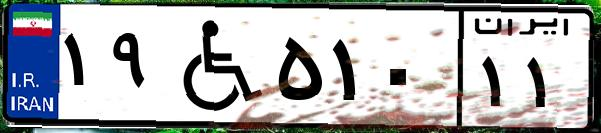0: (385, 28, 445, 110)
1: (330, 28, 385, 110), (57, 26, 110, 100), (475, 38, 525, 113), (525, 38, 570, 115)
5: (270, 28, 330, 110)
9: (110, 28, 158, 98)
ژ (معلولین و جانبازان): (158, 12, 270, 120)
